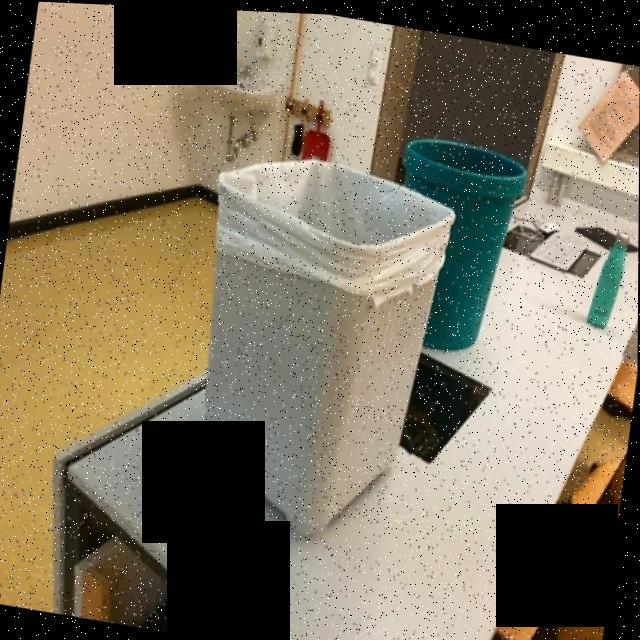bin: (145, 57, 470, 553)
